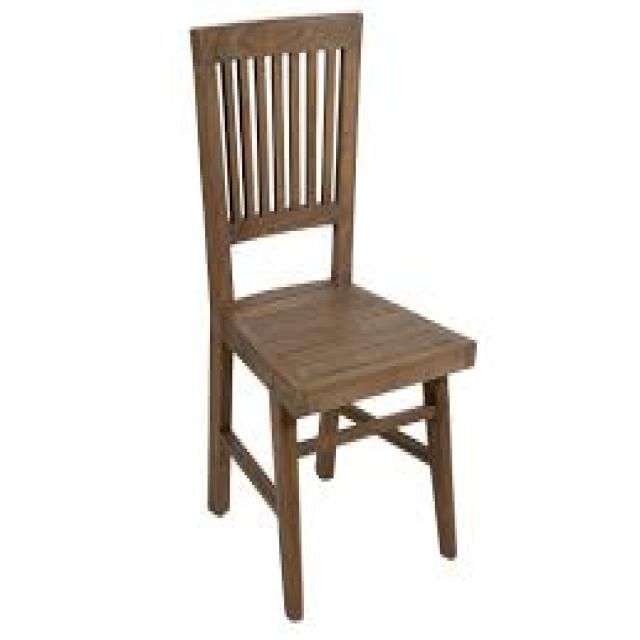bottle: (186, 11, 479, 628)
